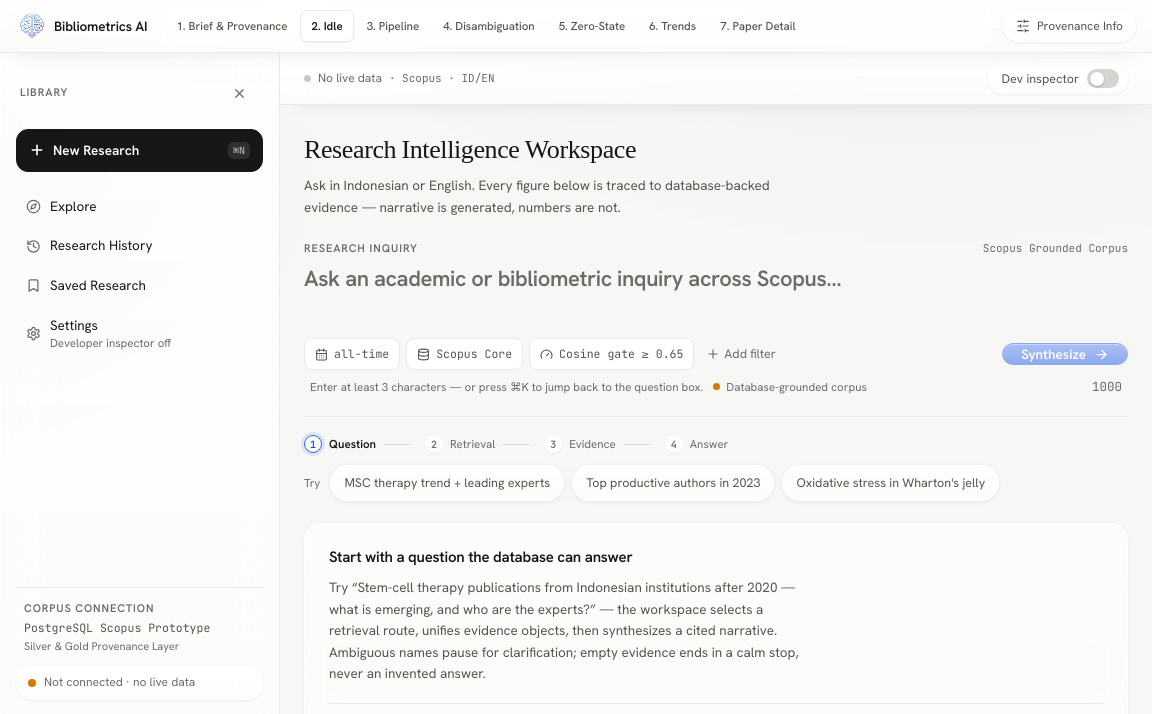
Test case: Workspace — navigation and shortcuts › ⌘N resets to a fresh research session
Step 1. Type "MSC therapy trend in Indonesia?" into the text box named "research question" → (716, 293), box 304,265 -> 1128,321
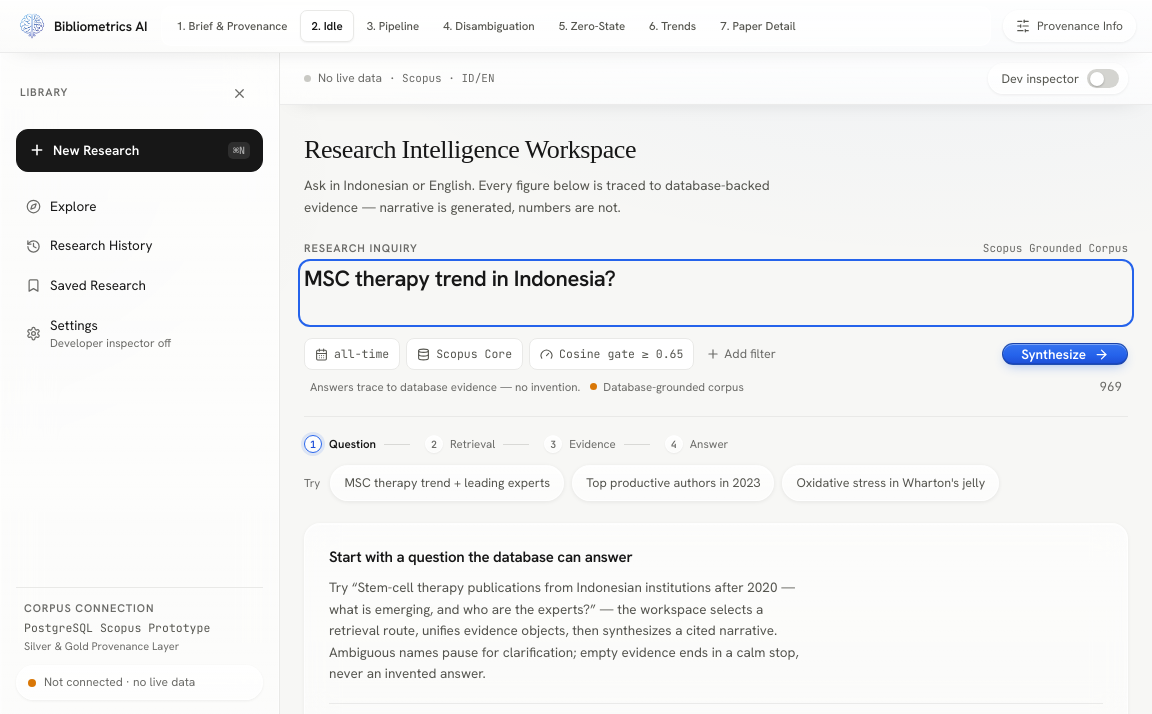
Step 2. Click the button "Synthesize" → (1065, 354), box 1002,342 -> 1128,365
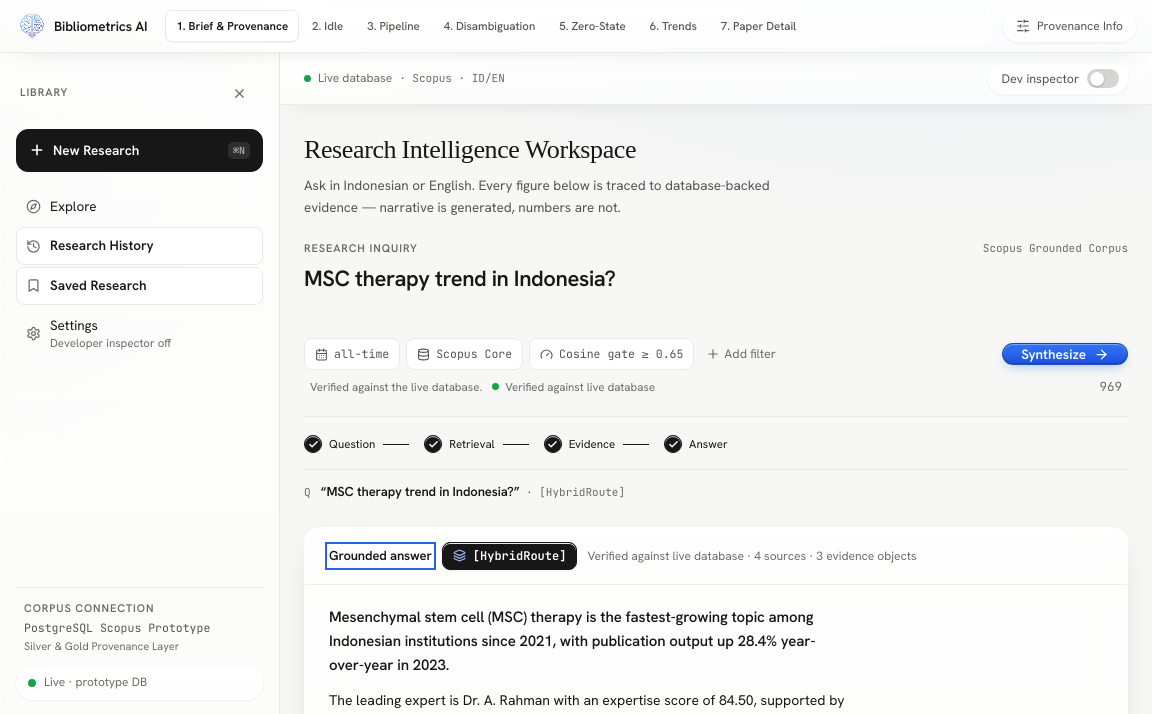
Expected: the heading "Grounded answer" is shown, 329,546 -> 432,566
Step 3. Type keys "{Control>}n{/Control}"
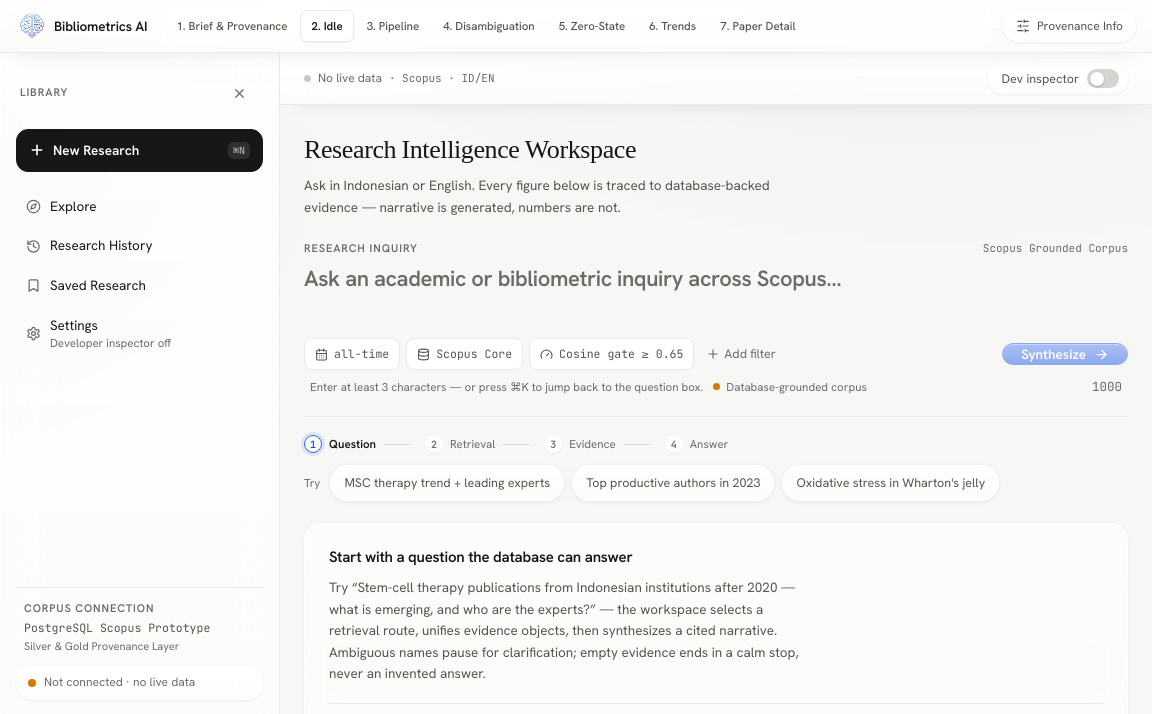
Expected: the heading "grounded answer" is not shown
Expected: the element named "example questions" is shown, 304,465 -> 999,501
